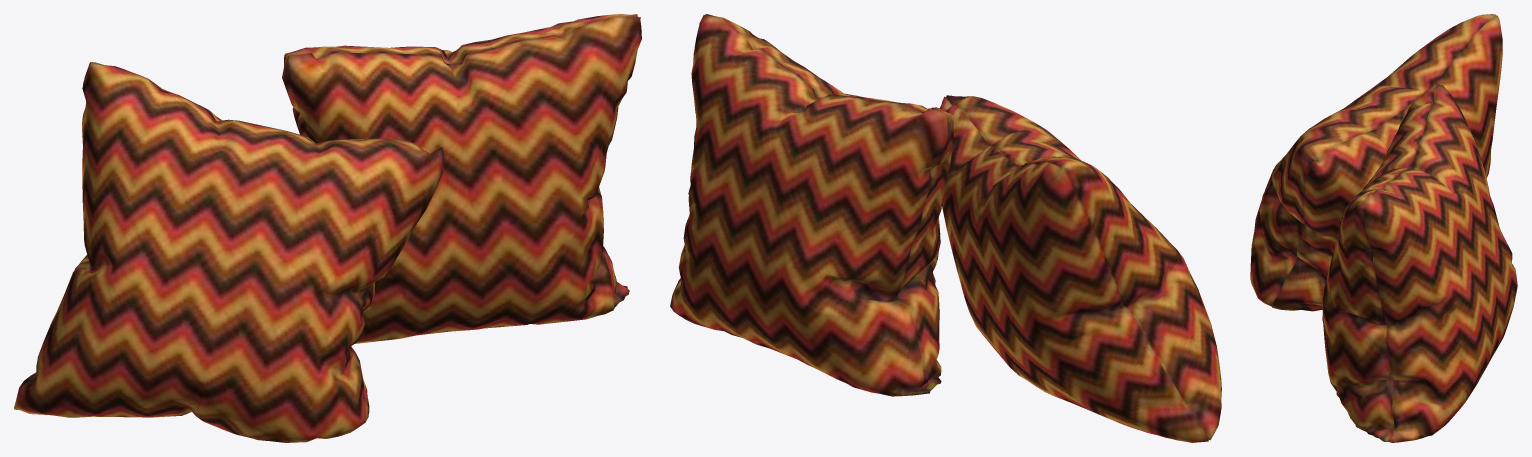
Rendered from throw_pillows_01.glb.
The picture shows the model from 3 angles, left to right: view 1: azimuth 30°, elevation 25°; view 2: azimuth 150°, elevation 25°; view 3: azimuth 270°, elevation 25°; orthographic projection. The views are drawn at different scales.
Parts seen in each view (by area): view 1: throw_pillows_01_pillow01, throw_pillows_01_pillow02; view 2: throw_pillows_01_pillow02, throw_pillows_01_pillow01; view 3: throw_pillows_01_pillow02, throw_pillows_01_pillow01.
Boxes of the visible parts, x1=… form: throw_pillows_01_pillow01: x1=14, y1=62, x2=443, y2=442; throw_pillows_01_pillow02: x1=282, y1=14, x2=641, y2=343; throw_pillows_01_pillow02: x1=670, y1=14, x2=953, y2=396; throw_pillows_01_pillow01: x1=939, y1=95, x2=1221, y2=442; throw_pillows_01_pillow02: x1=1322, y1=84, x2=1517, y2=442; throw_pillows_01_pillow01: x1=1250, y1=14, x2=1502, y2=311.
Bounding box in the file's own units: 0.9401 × 0.4502 × 0.4519.
Materials: 1 (1 with a texture image).
